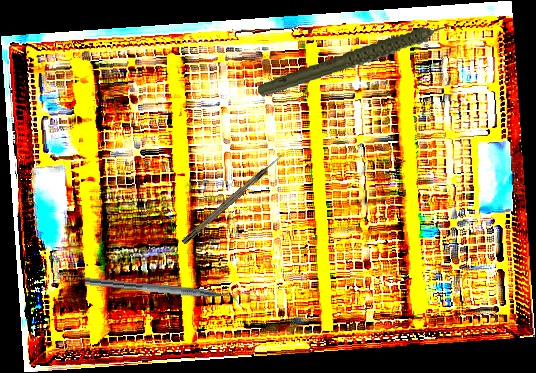Chopper: (83, 277, 245, 310)
Handpiece: (253, 22, 468, 98)
Hook Surgical: (180, 153, 285, 245)
